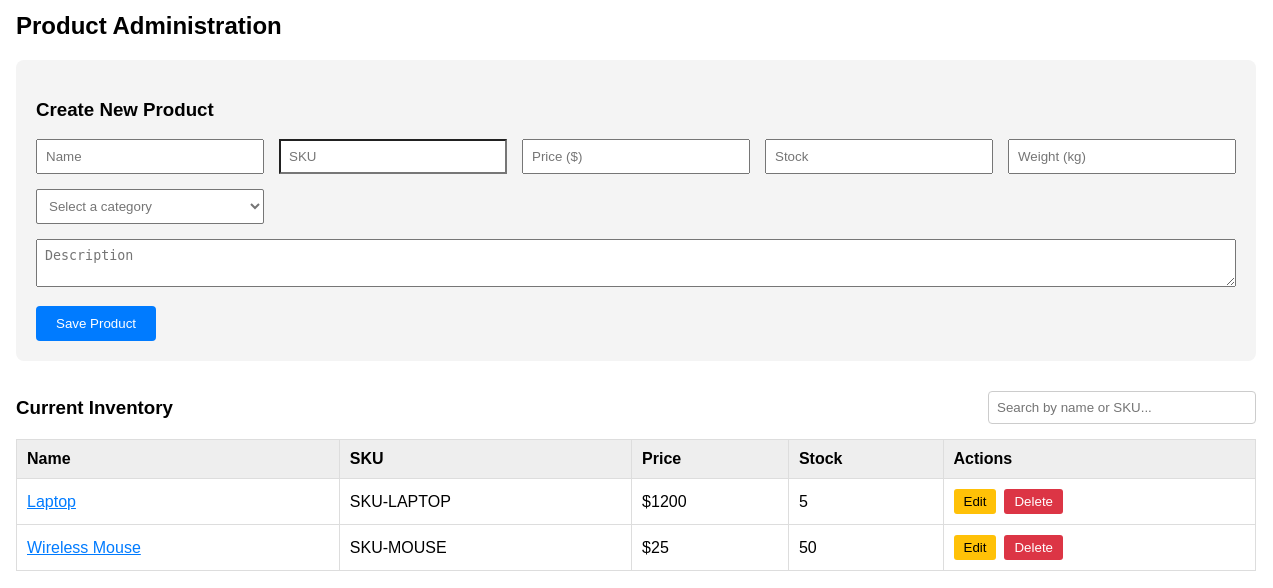
Test: ProductAdmin Component › cancels edit mode and resets the form when clicking cancel button
Expected: the text "Laptop" is shown, [27,493,76,510]
Click the button "Edit" in the row of "SKU-LAPTOP": (975, 502) [954,489,996,514]
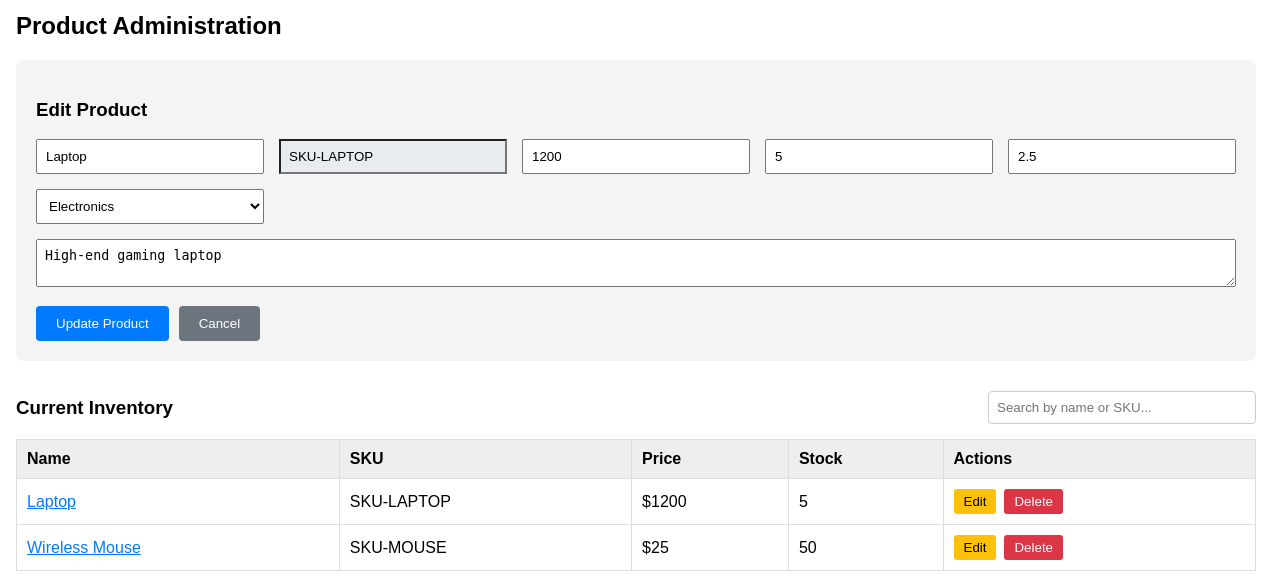
Expected: the heading "Edit Product" is shown, [36,98,147,120]
Expected: the field with placeholder "Name" holds "Laptop", [36,139,264,174]
Click the button "Cancel": (219, 324) [179,306,260,341]
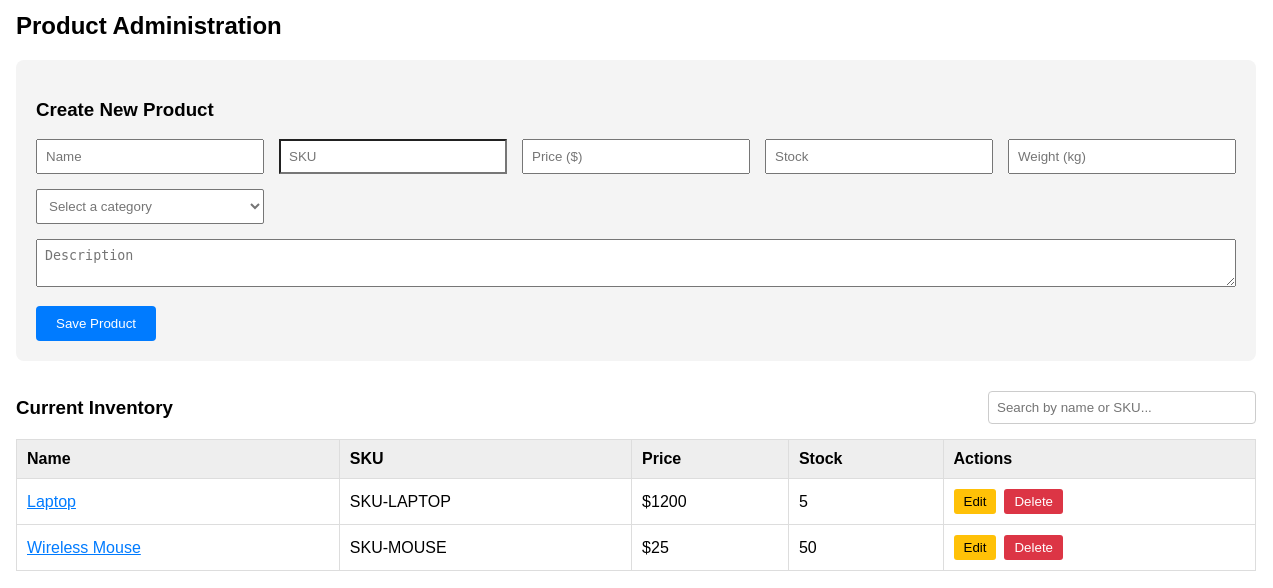
Expected: the heading "Create New Product" is shown, [36,98,214,120]
Expected: the field with placeholder "Name" is empty, [36,139,264,174]
Expected: the button "Cancel" is gone
